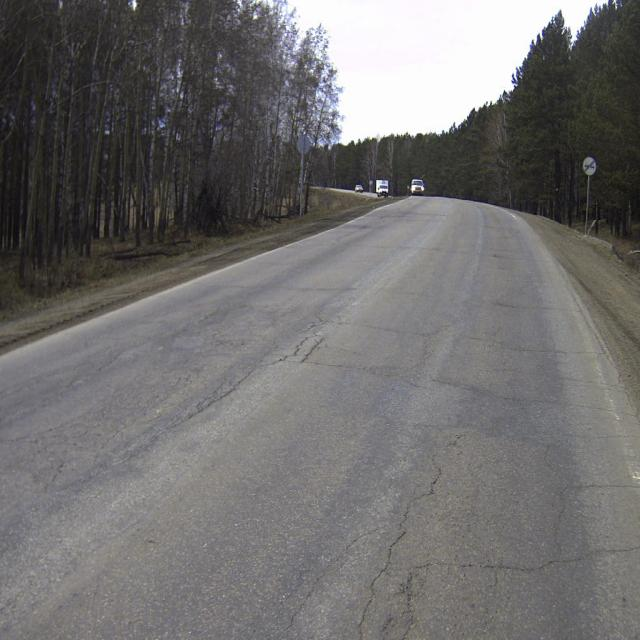road: (0, 196, 640, 639)
